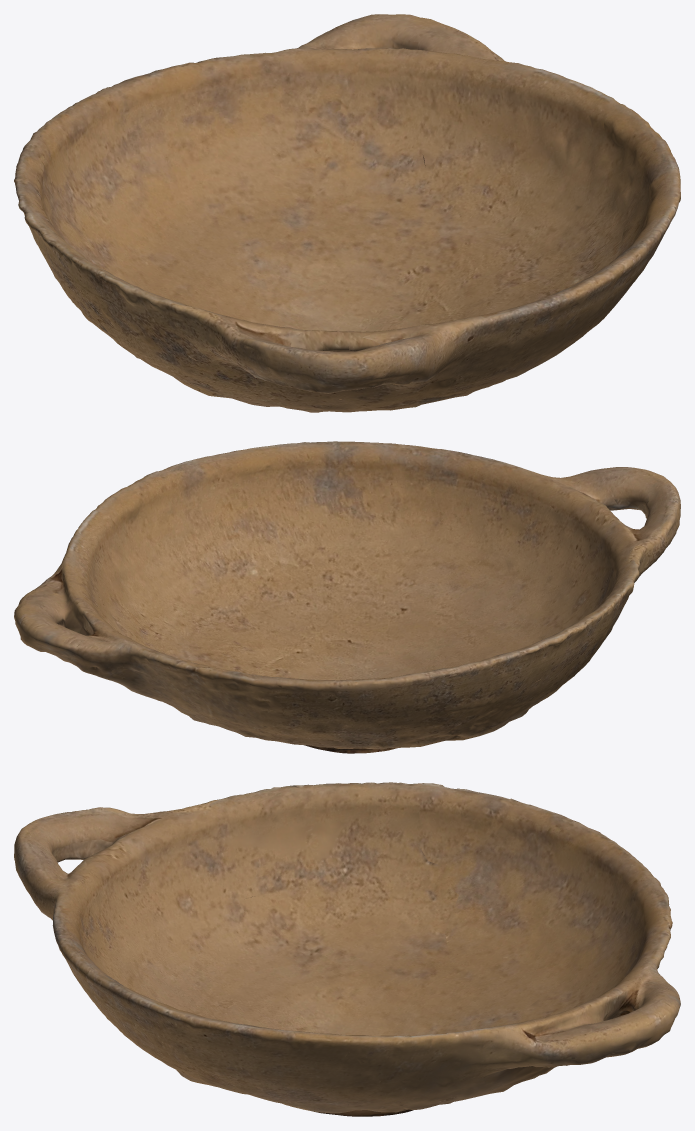
The model's file is Pinakio1.fbx.
3 renders of one model, top to bottom at view 1: azimuth 30°, elevation 25°; view 2: azimuth 150°, elevation 25°; view 3: azimuth 270°, elevation 25°, orthographic. The views are drawn at different scales.
Parts seen in each view (by area): view 1: Pinakio1-video; view 2: Pinakio1-video; view 3: Pinakio1-video.
Part boxes in pixels (x1,y1,x2,y2): Pinakio1-video: [14, 14, 680, 412]; Pinakio1-video: [14, 441, 680, 753]; Pinakio1-video: [14, 782, 680, 1116].
Bounding box in the file's own units: 14.13 × 15.54 × 4.49.
Materials: 1 (1 with a texture image).
